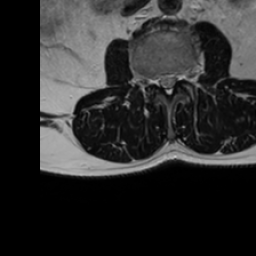CCS_normal: (163, 64, 170, 100)
LFS_normal: (177, 64, 184, 88)
LLS_normal: (170, 64, 177, 89)
RFS_normal: (147, 69, 155, 93)
RLS_normal: (155, 66, 163, 93)
